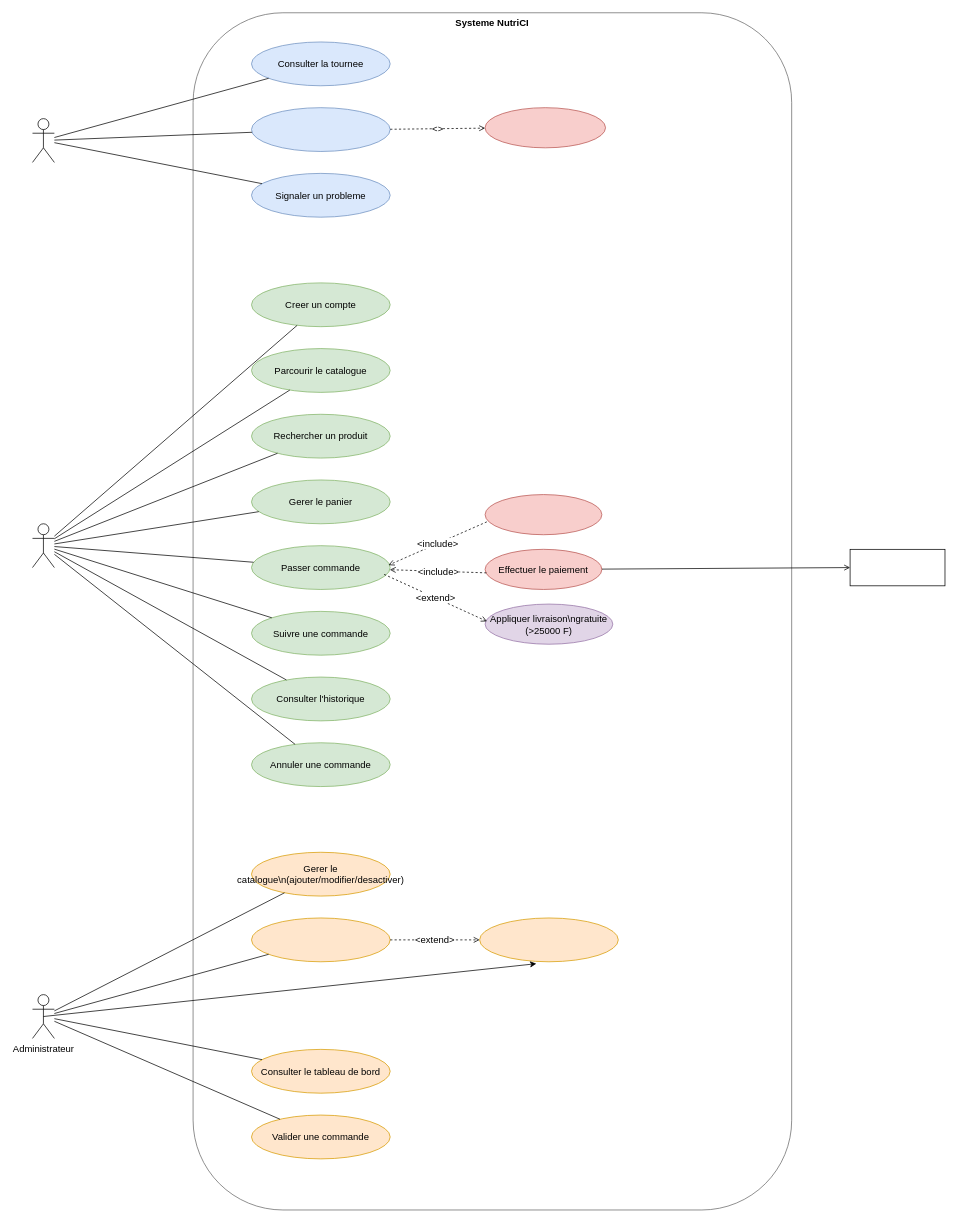
Image size: 961x1223. Some labels were removed from this diagram. The box of each missing label's shape, as (x1, y1, x2, y2) in pixels:
<<Systeme de paiement Mobile Money>>: (849, 549, 945, 586)
Client: (32, 523, 54, 568)
Confirmer la livraison: (251, 107, 390, 151)
Livreur: (32, 118, 54, 162)
Mettre a jour le stock: (251, 917, 390, 962)
Recevoir alerte stock bas: (479, 917, 618, 962)
Recueillir la signature: (484, 107, 606, 148)
Verifier le stock: (484, 494, 602, 535)
